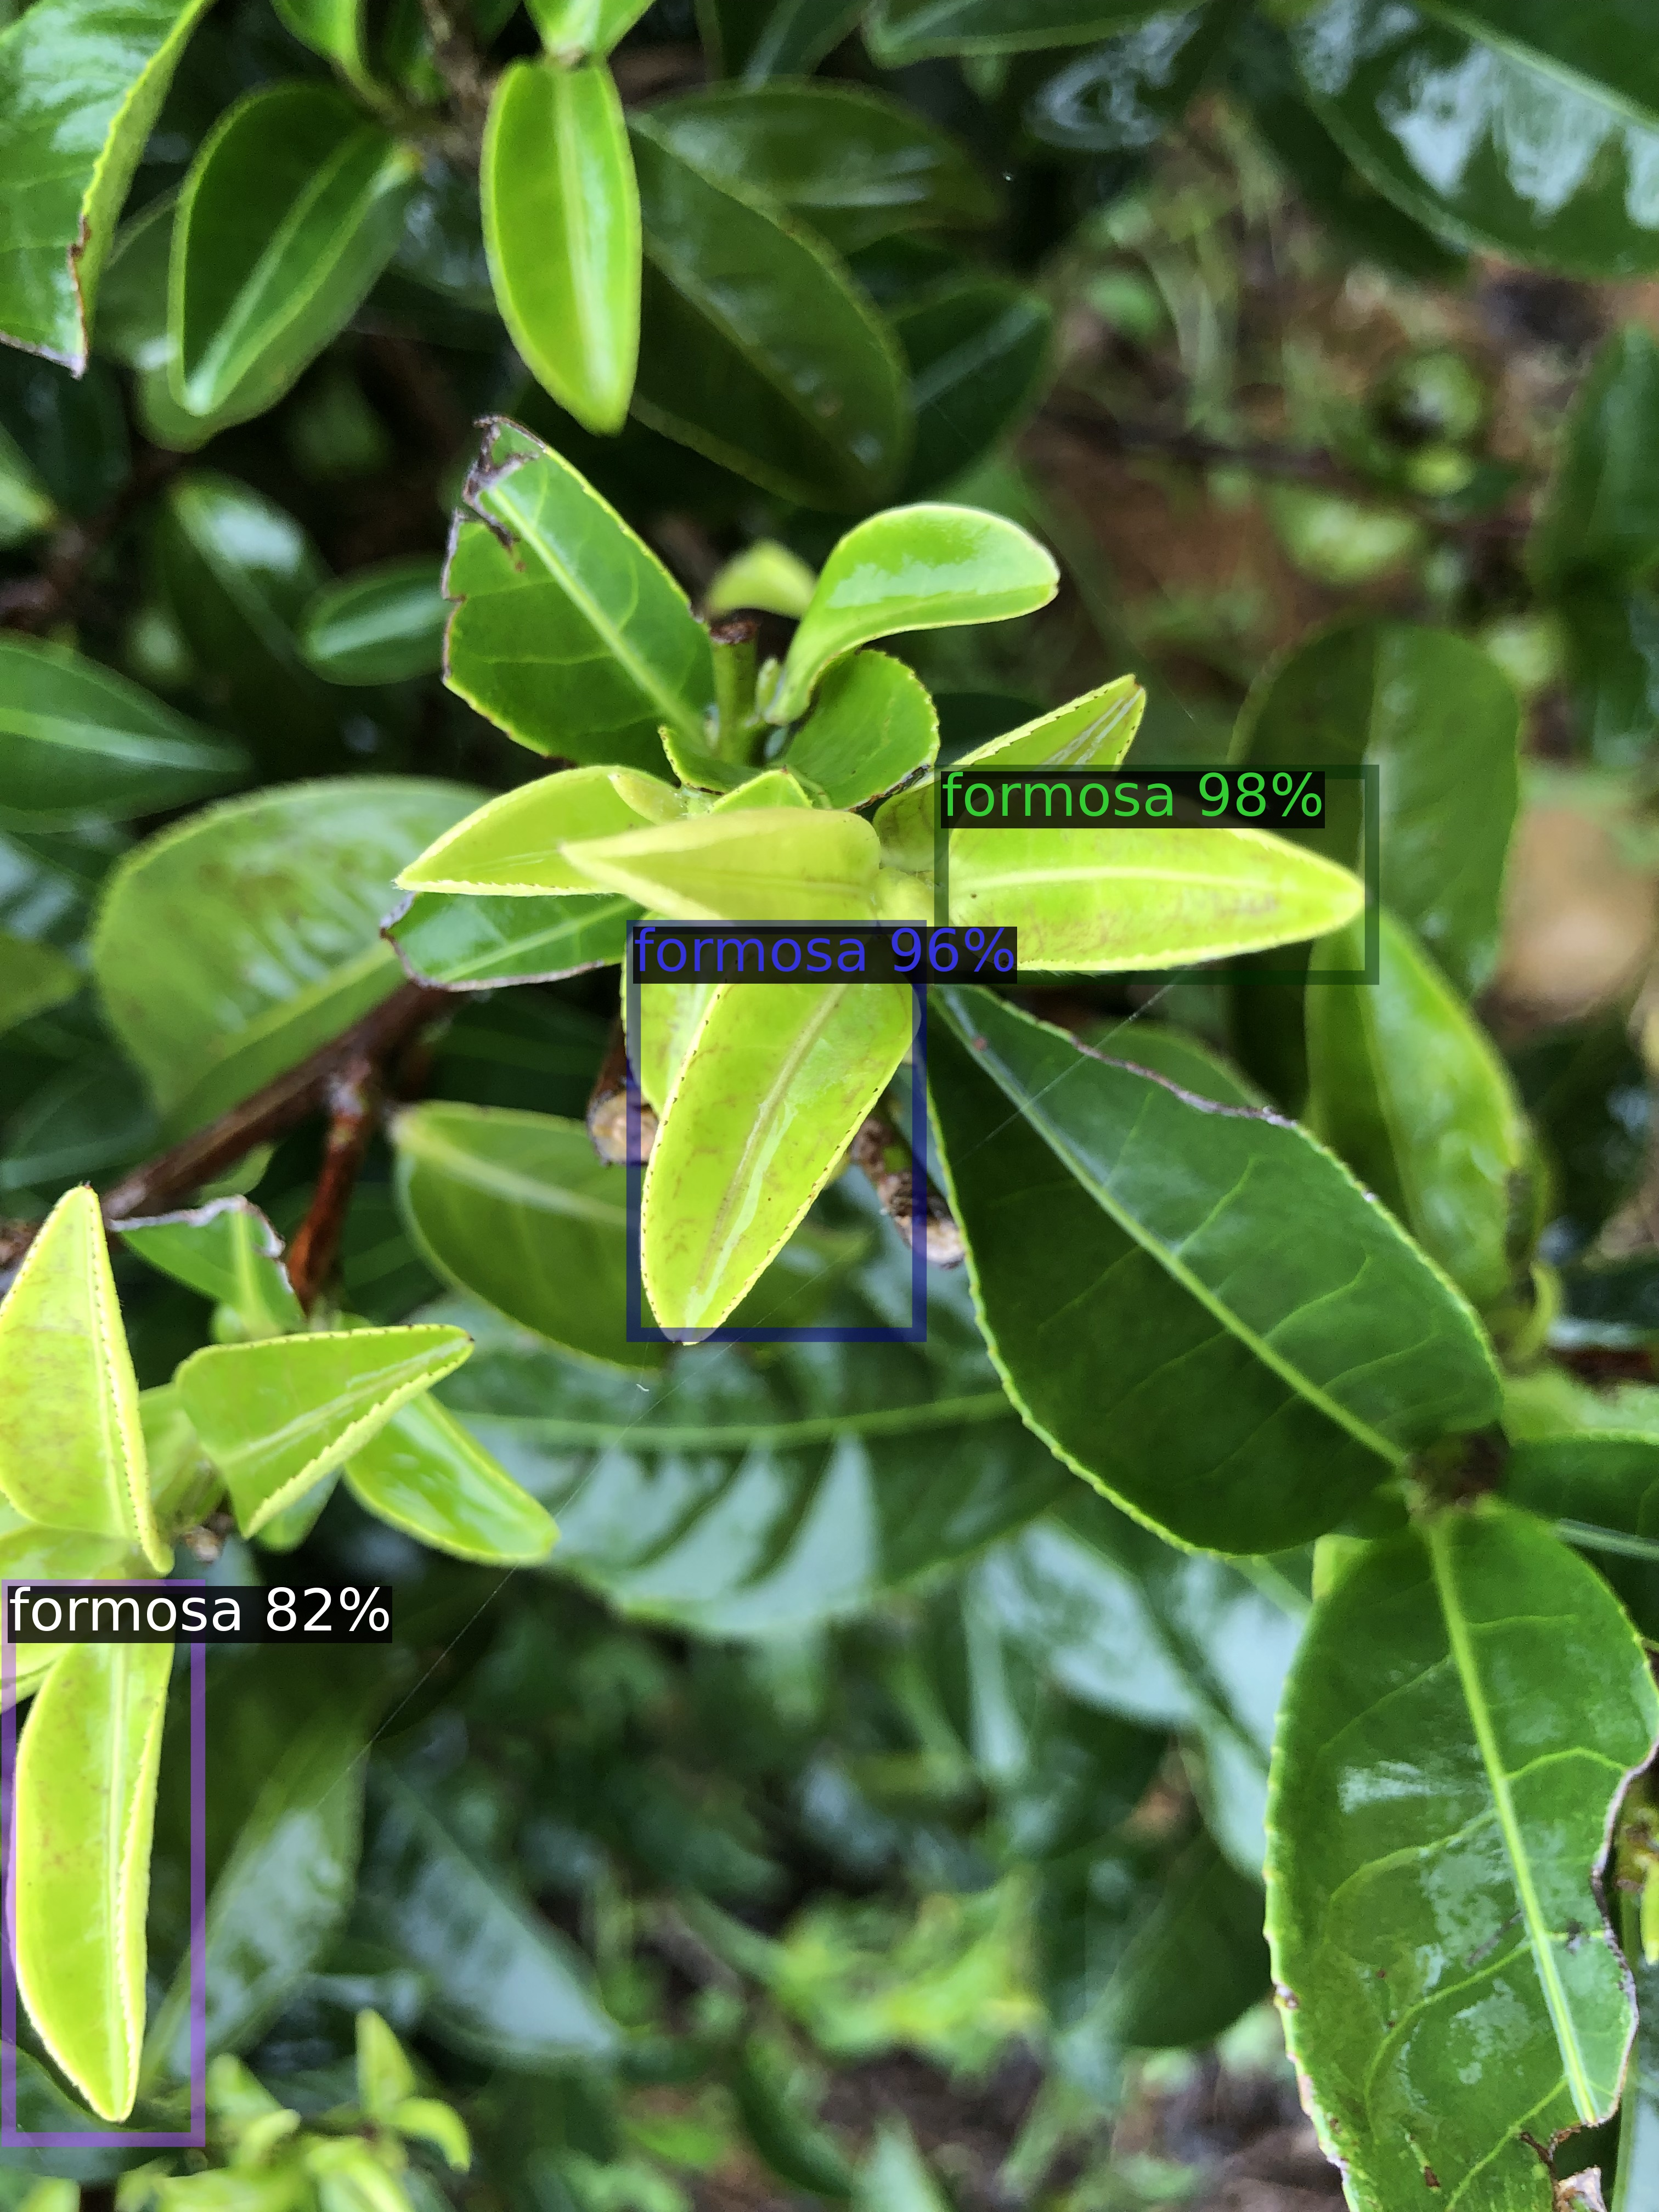formosa: (633, 927, 918, 1334), (9, 1587, 199, 2139), (941, 772, 1371, 977)
